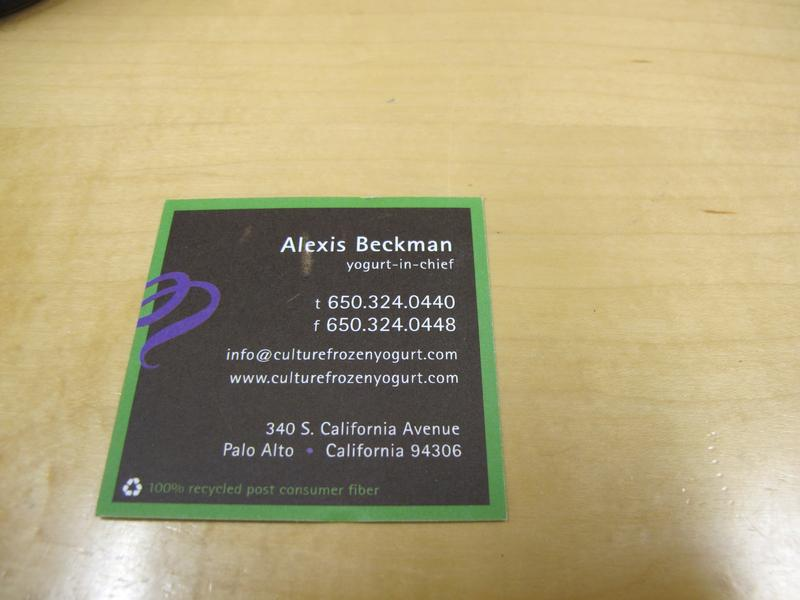card: (103, 193, 509, 525)
